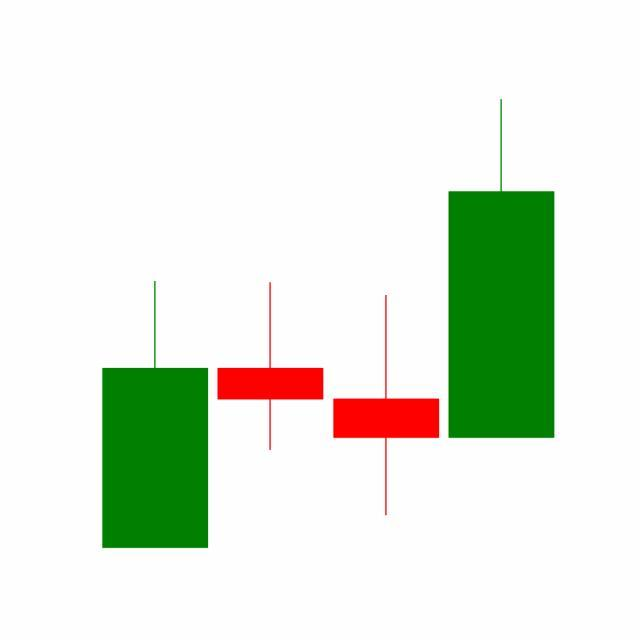Spinning Top: (329, 293, 445, 519)
